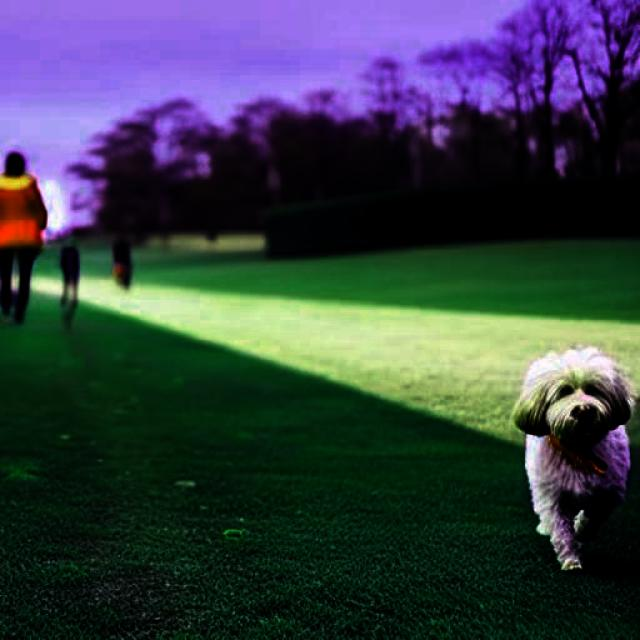Dog: (512, 346, 636, 573)
